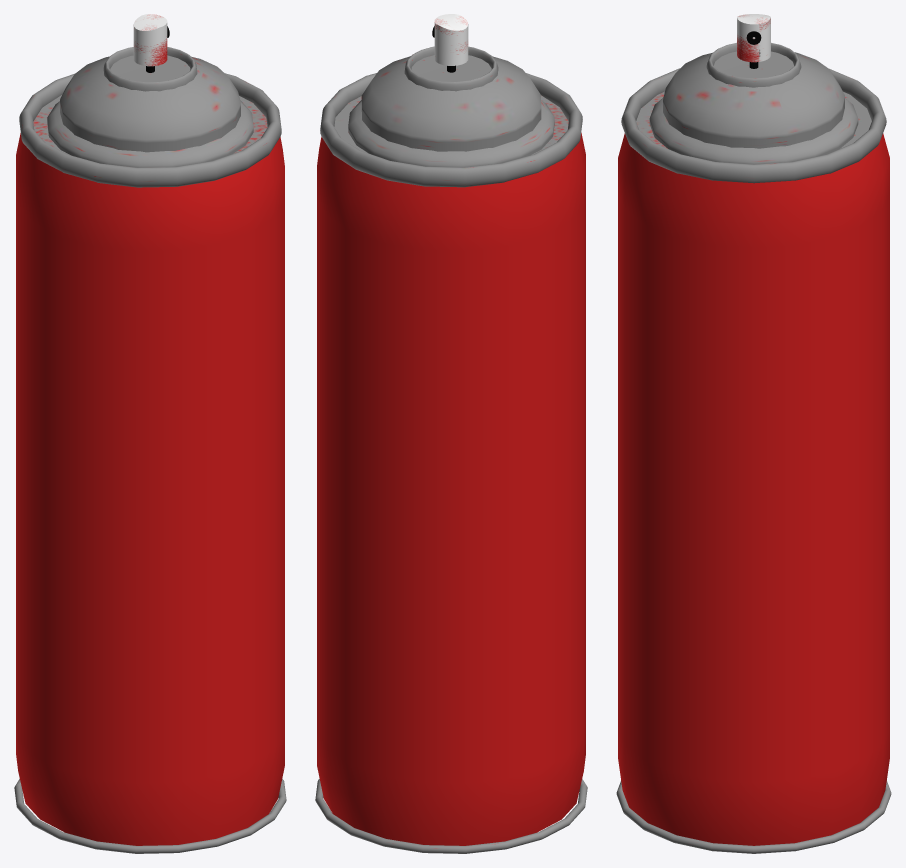
The model's file is spraypaintcan.fbx.
The picture shows the model from 3 angles, left to right: view 1: azimuth 30°, elevation 25°; view 2: azimuth 150°, elevation 25°; view 3: azimuth 270°, elevation 25°; orthographic projection.
Visible parts, largest first — view 1: pTorus4; view 2: pTorus4; view 3: pTorus4.
Part boxes in pixels (x1,y1,x2,y2): pTorus4: [14, 14, 286, 853]; pTorus4: [315, 14, 587, 853]; pTorus4: [616, 14, 891, 853].
Size of the model in its own units: 2.02 by 6.34 by 2.02.
1 material, 1 textured.
